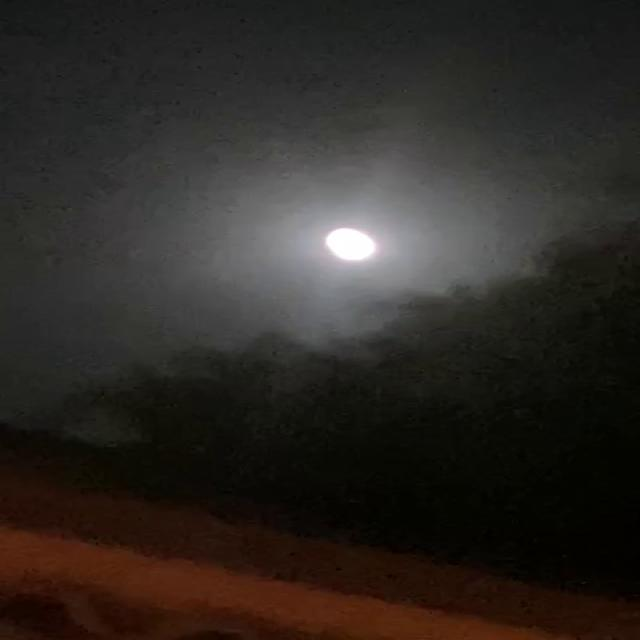moon: (286, 226, 369, 270)
